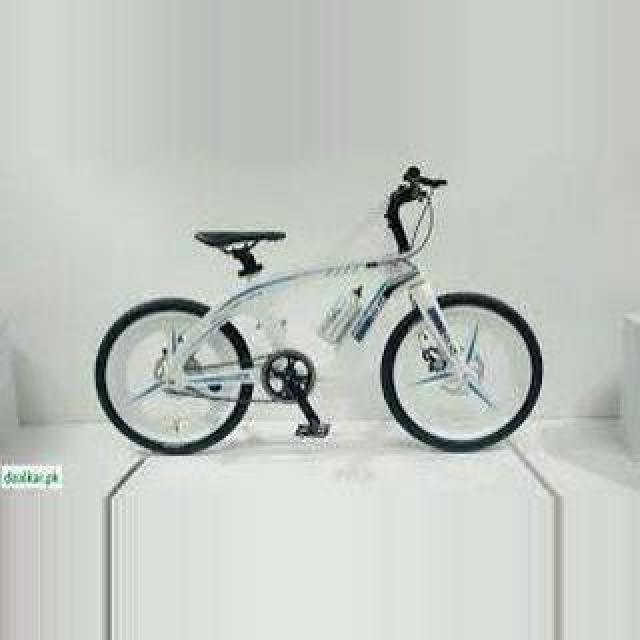Person: (92, 163, 546, 455)
